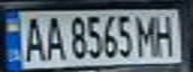5: (115, 12, 136, 59), (84, 12, 103, 60)
6: (103, 11, 121, 58)
8: (66, 12, 87, 60)
A: (18, 12, 48, 63), (39, 12, 66, 62)
H: (151, 11, 181, 57)
M: (133, 11, 160, 57)
